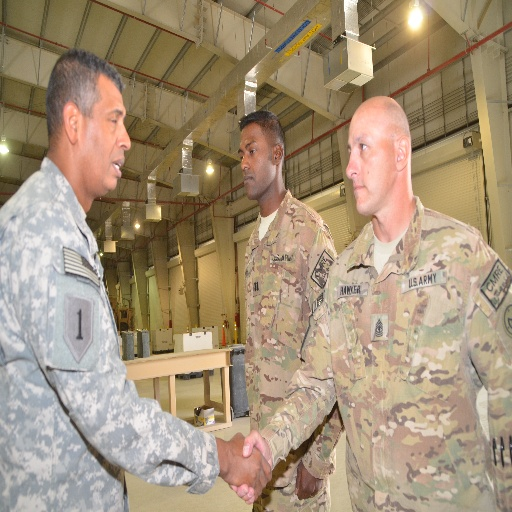hand: (226, 427, 273, 506), (292, 463, 324, 501)
